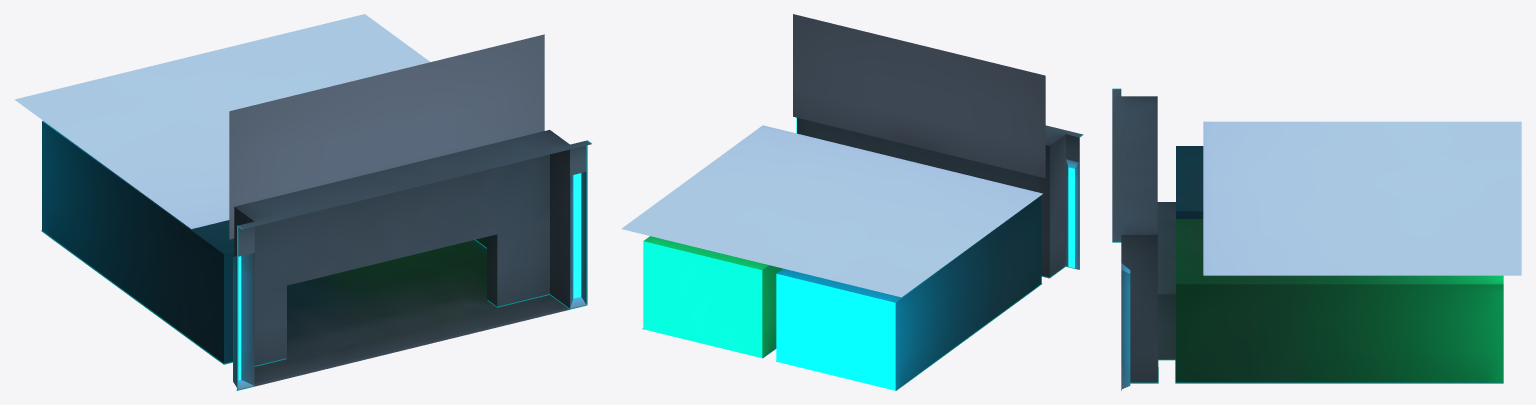
Rendered from Small.fbx.
3 renders of one model, left to right at view 1: azimuth 30°, elevation 25°; view 2: azimuth 150°, elevation 25°; view 3: azimuth 270°, elevation 25°, orthographic. The views are drawn at different scales.
Visible parts, largest first — view 1: Room.178; view 2: Room.178; view 3: Room.178.
Part boxes in pixels (<box>): Room.178: <box>14,14,591,390</box>; Room.178: <box>621,14,1083,390</box>; Room.178: <box>1112,88,1521,390</box>.
Bounding box in the file's own units: 2000 × 1400 × 2250.
